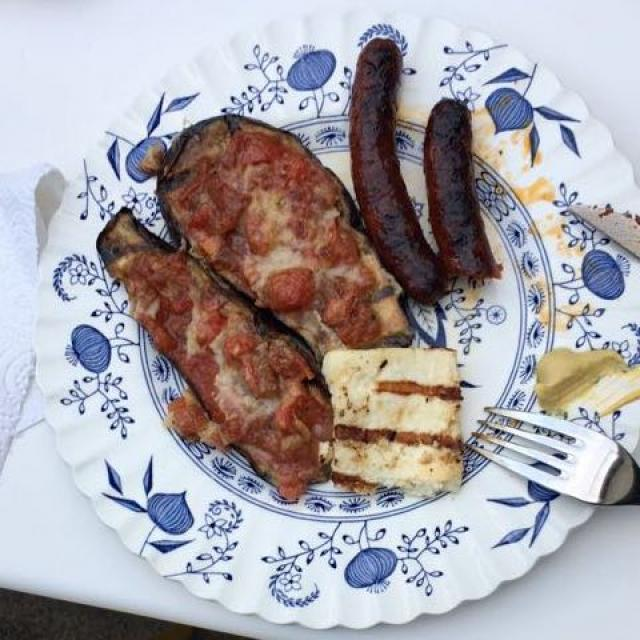eggplant: (70, 112, 420, 488)
halloumi: (318, 341, 492, 502)
mustard-dijon: (530, 328, 622, 414)
parmesan: (138, 163, 364, 480)
tomato-sauce: (130, 144, 394, 488)
